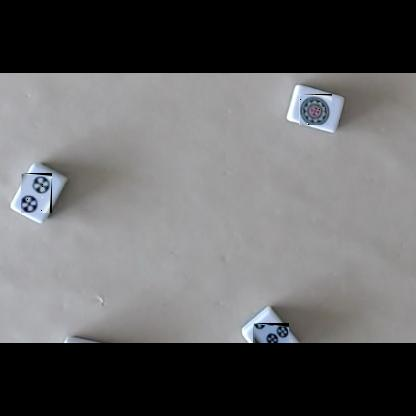1p: (299, 94, 332, 125)
2p: (21, 173, 52, 213)
4p: (253, 323, 289, 343)
